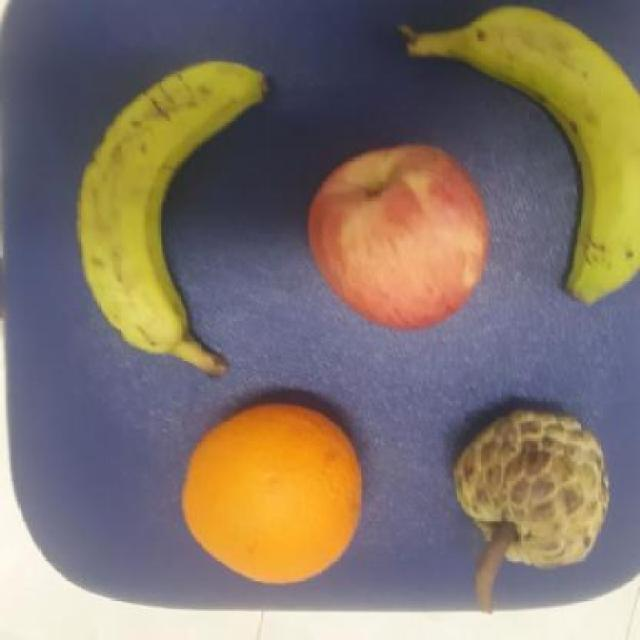apple: (303, 142, 489, 331)
banana: (398, 4, 639, 310), (75, 60, 272, 383)
oren: (181, 395, 365, 592)
sugar apple: (448, 402, 614, 573)
